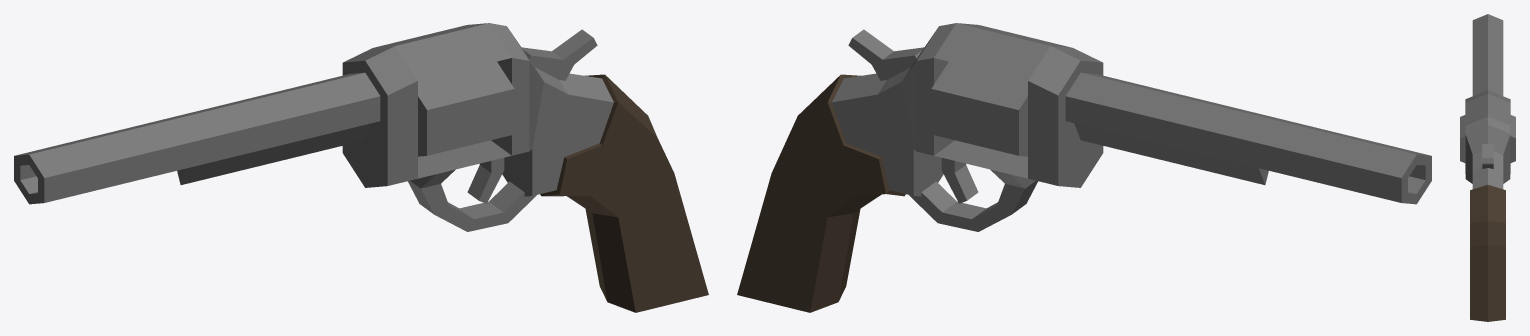
Rendered from Revolver.fbx.
The picture shows the model from 3 angles, left to right: view 1: azimuth 30°, elevation 25°; view 2: azimuth 150°, elevation 25°; view 3: azimuth 270°, elevation 25°; orthographic projection. The views are drawn at different scales.
Parts seen in each view (by area): view 1: RevolverModel; view 2: RevolverModel; view 3: RevolverModel.
Boxes of the visible parts, box(x1,y1,x2,y2) form: RevolverModel: box(14, 23, 708, 312); RevolverModel: box(737, 23, 1431, 312); RevolverModel: box(1460, 14, 1515, 321).
Size of the model in its own units: 41.33 by 18.14 by 5.97.
